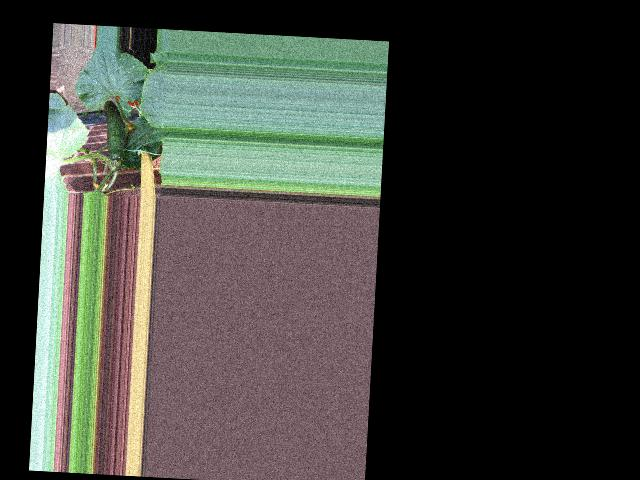cucumber: (100, 100, 127, 161)
